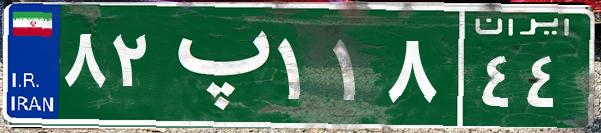1: (273, 28, 330, 110), (330, 28, 385, 110)
2: (110, 28, 158, 105)
4: (475, 38, 525, 113), (525, 38, 570, 115)
8: (385, 28, 445, 110), (57, 26, 110, 107)
پ: (158, 15, 273, 115)
